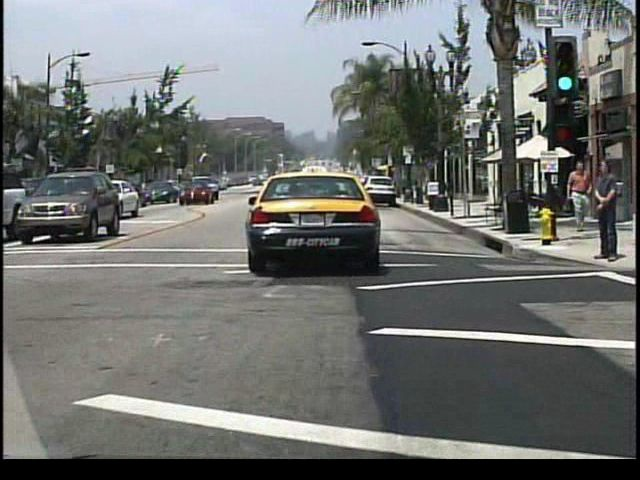person: (597, 157, 621, 264), (568, 160, 593, 232)
